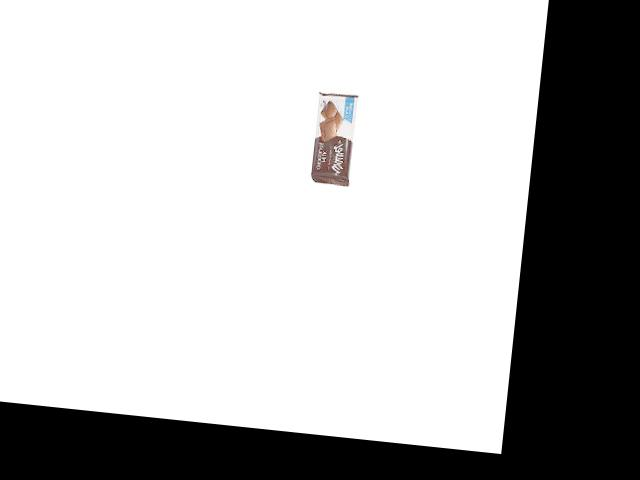chocolate: (308, 90, 360, 185)
